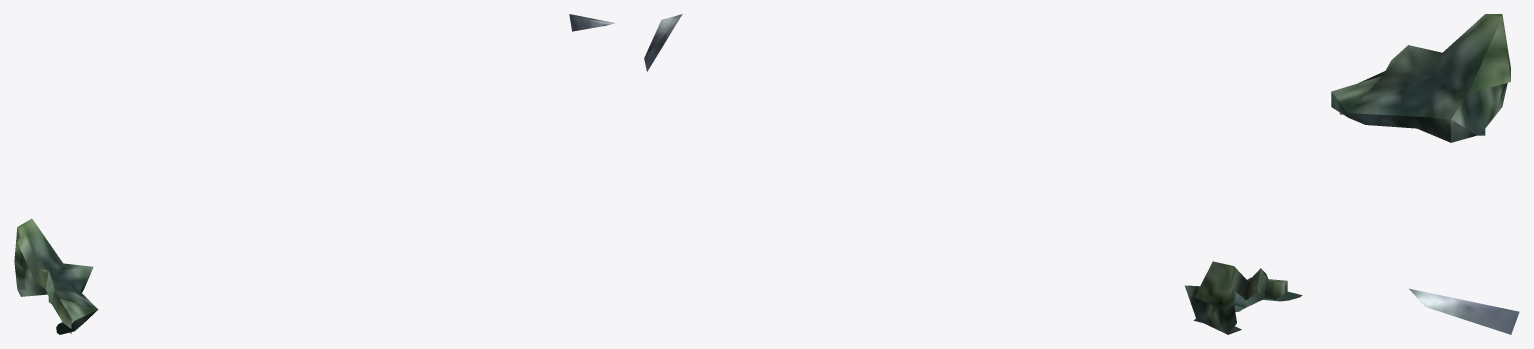
The picture shows the model from 3 angles, left to right: view 1: azimuth 30°, elevation 25°; view 2: azimuth 150°, elevation 25°; view 3: azimuth 270°, elevation 25°; orthographic projection. The views are drawn at different scales.
Parts seen in each view (by area): view 1: 30436272704370607524_0; view 2: 30436272704370607524_0; view 3: 30436272704370607524_0.
Boxes of the visible parts, x1,y1,x2,y2 form: 30436272704370607524_0: [14, 14, 614, 334]; 30436272704370607524_0: [644, 14, 1302, 334]; 30436272704370607524_0: [1331, 14, 1519, 334].
Bounding box in the file's own units: 18.25 × 4.63 × 3.4.
1 material, 1 textured.
